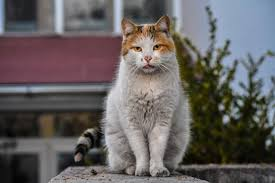cat: (81, 11, 196, 179)
